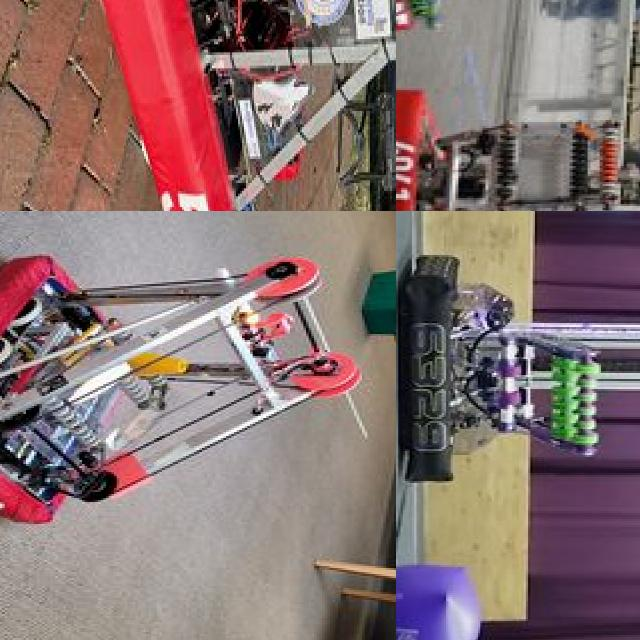FRC-Robots: (0, 214, 396, 485), (396, 224, 640, 492), (88, 0, 396, 211), (396, 106, 640, 211), (396, 0, 640, 72)
